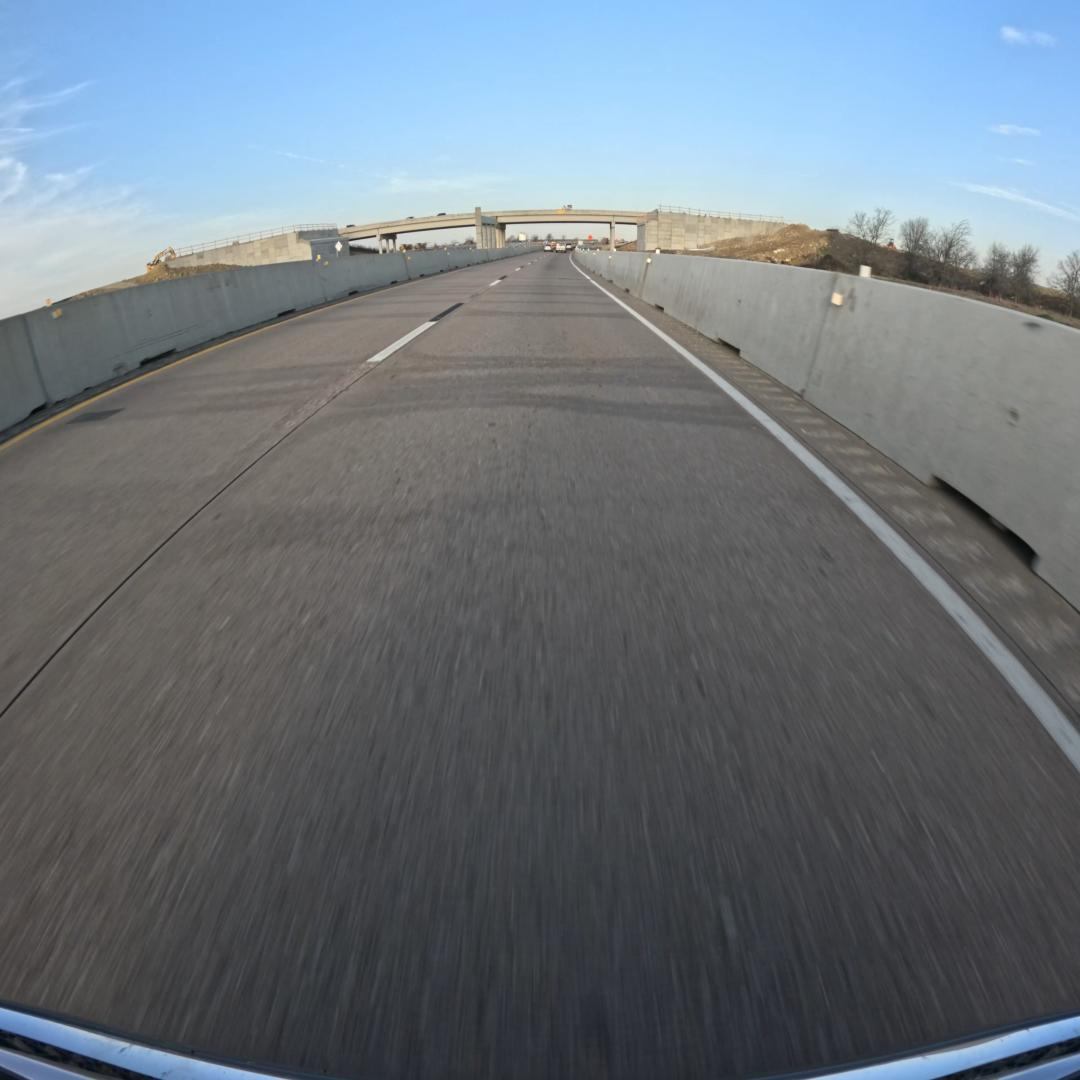lane0: (0, 258, 1080, 1080)
lane1: (0, 258, 534, 718)
